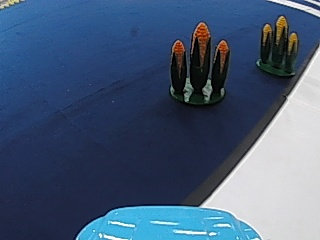corn: (165, 21, 232, 107), (255, 13, 300, 76)
